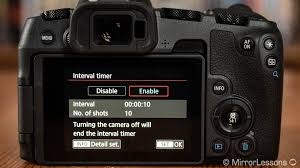camera: (21, 6, 281, 161)
